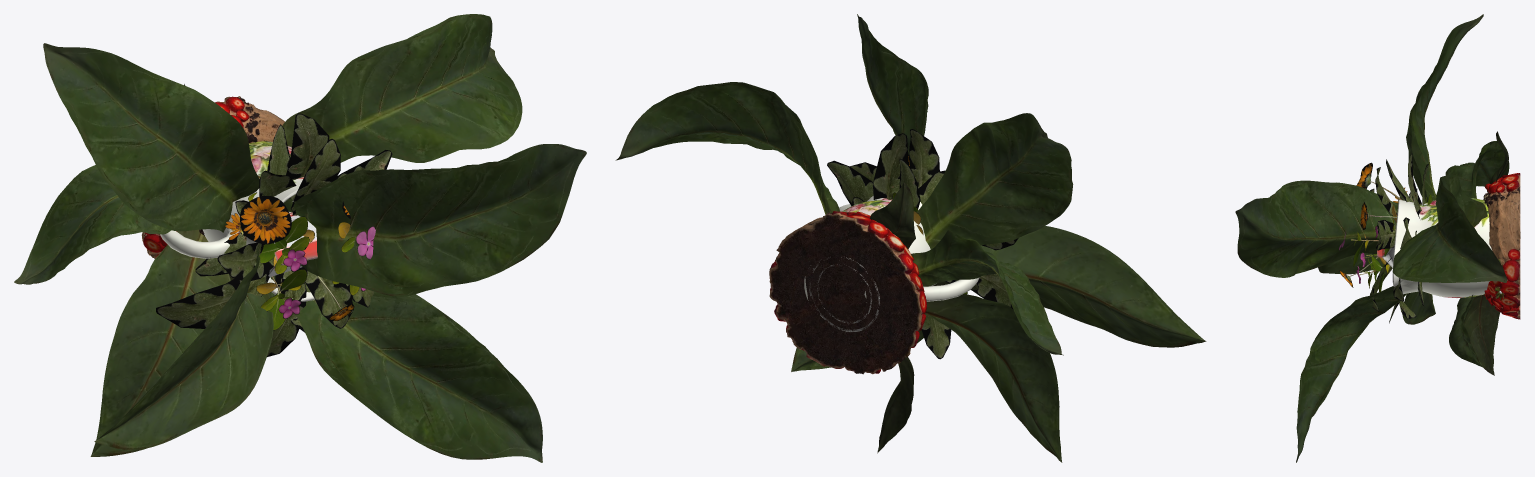
The model's file is oda-bitki.glb.
3 views of the same model, side by side, from view 1: azimuth 30°, elevation 25°; view 2: azimuth 150°, elevation 25°; view 3: azimuth 270°, elevation 25° (orthographic). The views are drawn at different scales.
Visible parts, largest first — view 1: balkon_bitki, balkon_cicek, yiyecek_surahi, cicek_a, pasta, cicek_b, yiyecek_sut; view 2: balkon_bitki, pasta, balkon_cicek, yiyecek_surahi; view 3: balkon_bitki, pasta, balkon_cicek, yiyecek_surahi, cicek_a, cicek_b.
Part boxes in pixels (x1,y1,x2,y2): balkon_bitki: (14, 14, 586, 462); balkon_cicek: (156, 113, 392, 356); yiyecek_surahi: (160, 141, 314, 301); cicek_a: (259, 216, 375, 295); pasta: (141, 96, 284, 258); cicek_b: (248, 175, 307, 330); yiyecek_sut: (268, 201, 317, 277); balkon_bitki: (615, 14, 1206, 462); pasta: (769, 211, 926, 374); balkon_cicek: (827, 129, 1018, 359); yiyecek_surahi: (804, 196, 979, 302); balkon_bitki: (1235, 14, 1509, 462); pasta: (1483, 173, 1520, 319); balkon_cicek: (1339, 153, 1428, 323); yiyecek_surahi: (1392, 198, 1520, 297); cicek_a: (1339, 231, 1389, 291); cicek_b: (1360, 194, 1432, 270).
Size of the model in its own units: 757 by 572 by 472.
Materials: 11 (11 with a texture image).
